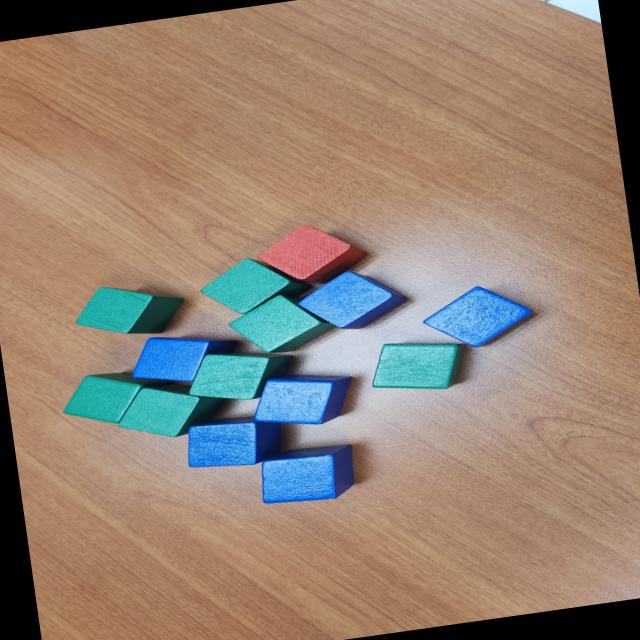blue: (419, 279, 538, 355), (293, 263, 411, 337), (244, 366, 358, 434), (125, 326, 242, 392), (255, 440, 360, 508), (284, 322, 392, 386), (180, 410, 286, 472), (208, 394, 268, 424)
green: (195, 248, 317, 320), (224, 288, 340, 360), (70, 275, 189, 345), (58, 362, 177, 432), (110, 376, 229, 446), (182, 342, 298, 408), (366, 332, 472, 399)
red: (252, 218, 372, 293)
